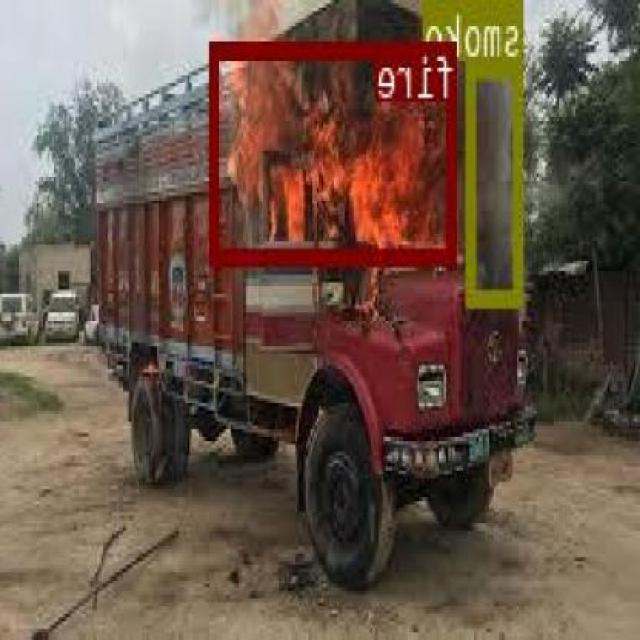Fire: (212, 39, 458, 261)
Smoke: (468, 58, 526, 302)
